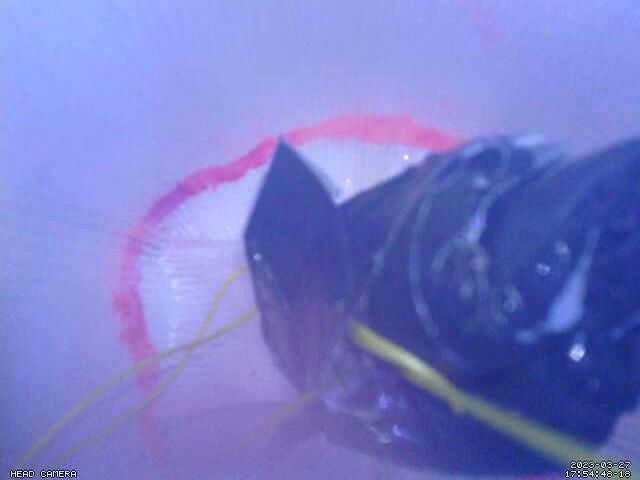head: (112, 111, 465, 480)
